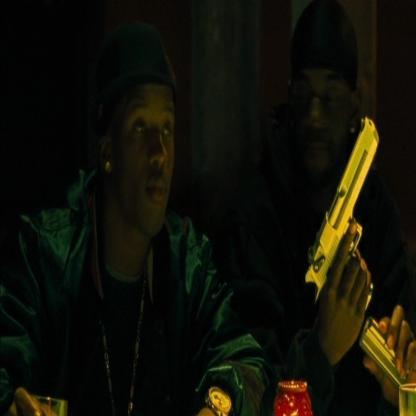gun: (309, 102, 394, 328)
